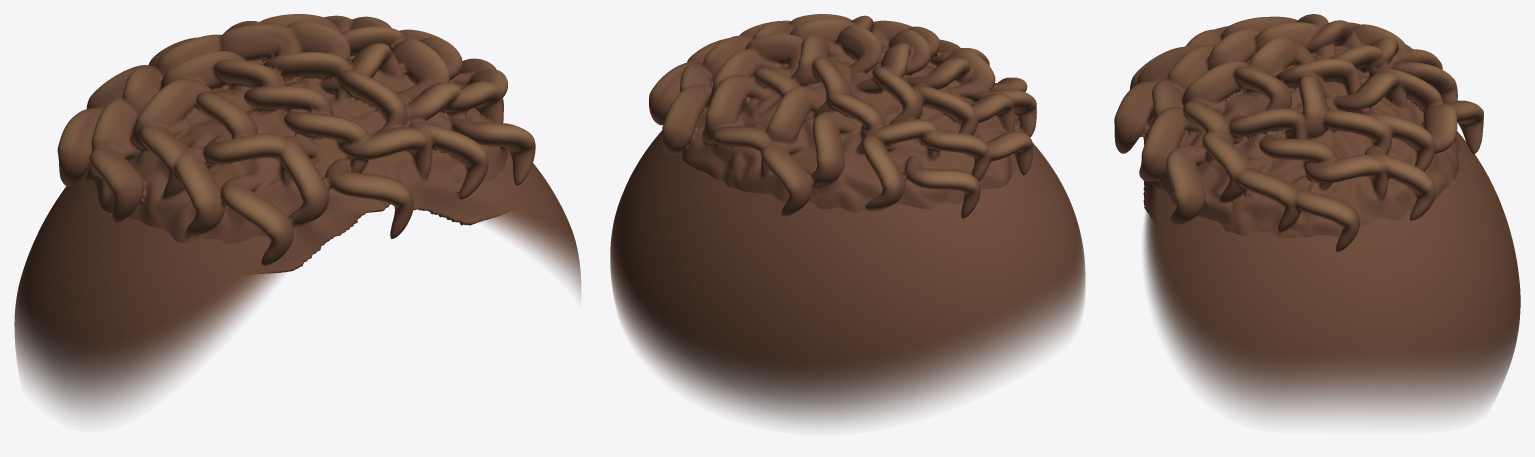
The model's file is Ombre-795e29d7d307253-hair.glb.
3 renders of one model, left to right at view 1: azimuth 30°, elevation 25°; view 2: azimuth 150°, elevation 25°; view 3: azimuth 270°, elevation 25°, orthographic. The views are drawn at different scales.
Parts seen in each view (by area): view 1: 226 hair / Hair252 / sculpted curl groups.001, 226 hair / Hair252 / curly close fade coverage.001; view 2: 226 hair / Hair252 / curly close fade coverage.001, 226 hair / Hair252 / sculpted curl groups.001; view 3: 226 hair / Hair252 / curly close fade coverage.001, 226 hair / Hair252 / sculpted curl groups.001.
Part boxes in pixels (x1,y1,x2,y2): 226 hair / Hair252 / sculpted curl groups.001: (57, 14, 535, 273); 226 hair / Hair252 / curly close fade coverage.001: (14, 152, 580, 418); 226 hair / Hair252 / curly close fade coverage.001: (610, 130, 1085, 425); 226 hair / Hair252 / sculpted curl groups.001: (649, 14, 1036, 218); 226 hair / Hair252 / curly close fade coverage.001: (1143, 131, 1520, 420); 226 hair / Hair252 / sculpted curl groups.001: (1114, 14, 1483, 251).
Bounding box in the file's own units: 0.976 × 0.7233 × 0.762.
Materials: 2 (2 with a texture image).
